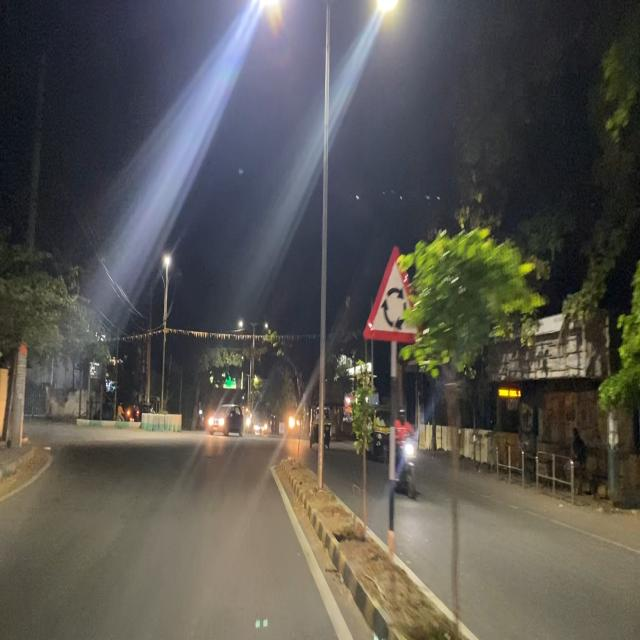bien_cam: (362, 244, 424, 346)
